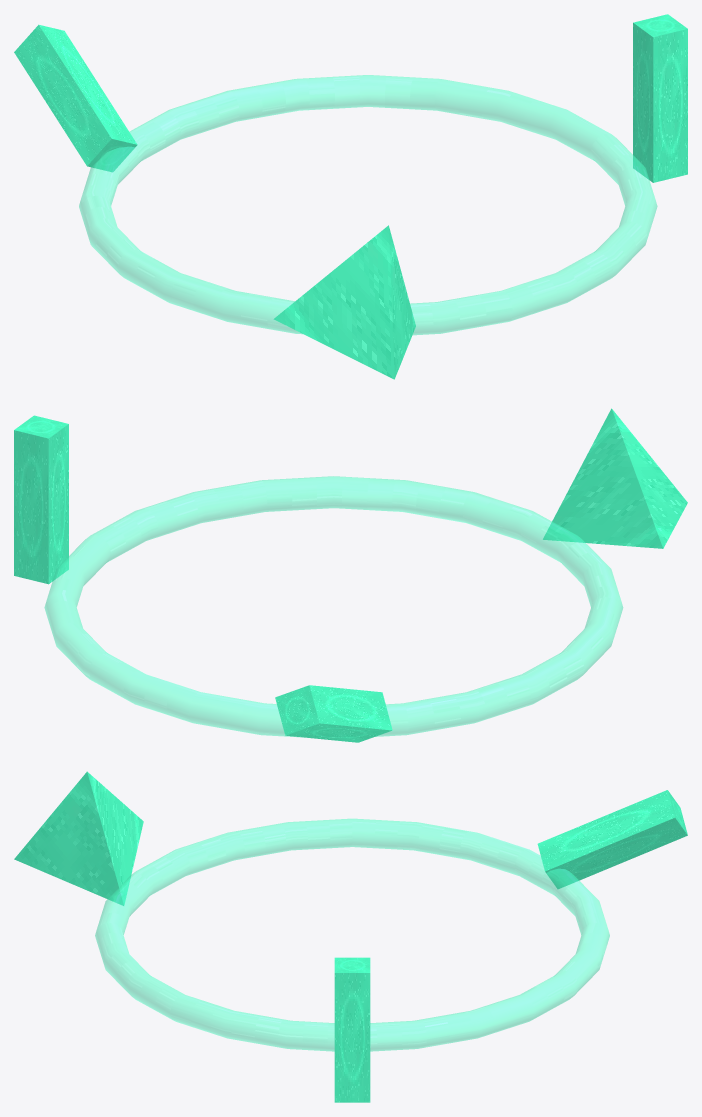
File: story-marker-green.high.glb
3 renders of one model, top to bottom at view 1: azimuth 30°, elevation 25°; view 2: azimuth 150°, elevation 25°; view 3: azimuth 270°, elevation 25°, orthographic. The views are drawn at different scales.
Visible parts, largest first — view 1: story-marker-green-transparent|#5edeb9|#5edeb9|0.38|1|0.04|0, story-marker-green-body; view 2: story-marker-green-transparent|#5edeb9|#5edeb9|0.38|1|0.04|0, story-marker-green-body; view 3: story-marker-green-transparent|#5edeb9|#5edeb9|0.38|1|0.04|0, story-marker-green-body.
Boxes of the visible parts, x1,y1,x2,y2 form: story-marker-green-transparent|#5edeb9|#5edeb9|0.38|1|0.04|0: (79, 75, 657, 335); story-marker-green-body: (14, 14, 687, 379); story-marker-green-transparent|#5edeb9|#5edeb9|0.38|1|0.04|0: (44, 476, 623, 737); story-marker-green-body: (14, 408, 687, 742); story-marker-green-transparent|#5edeb9|#5edeb9|0.38|1|0.04|0: (95, 818, 609, 1051); story-marker-green-body: (14, 771, 687, 1102).
Bounding box in the file's own units: 0.805 × 0.217 × 0.942.
Materials: 2 (2 with a texture image).
